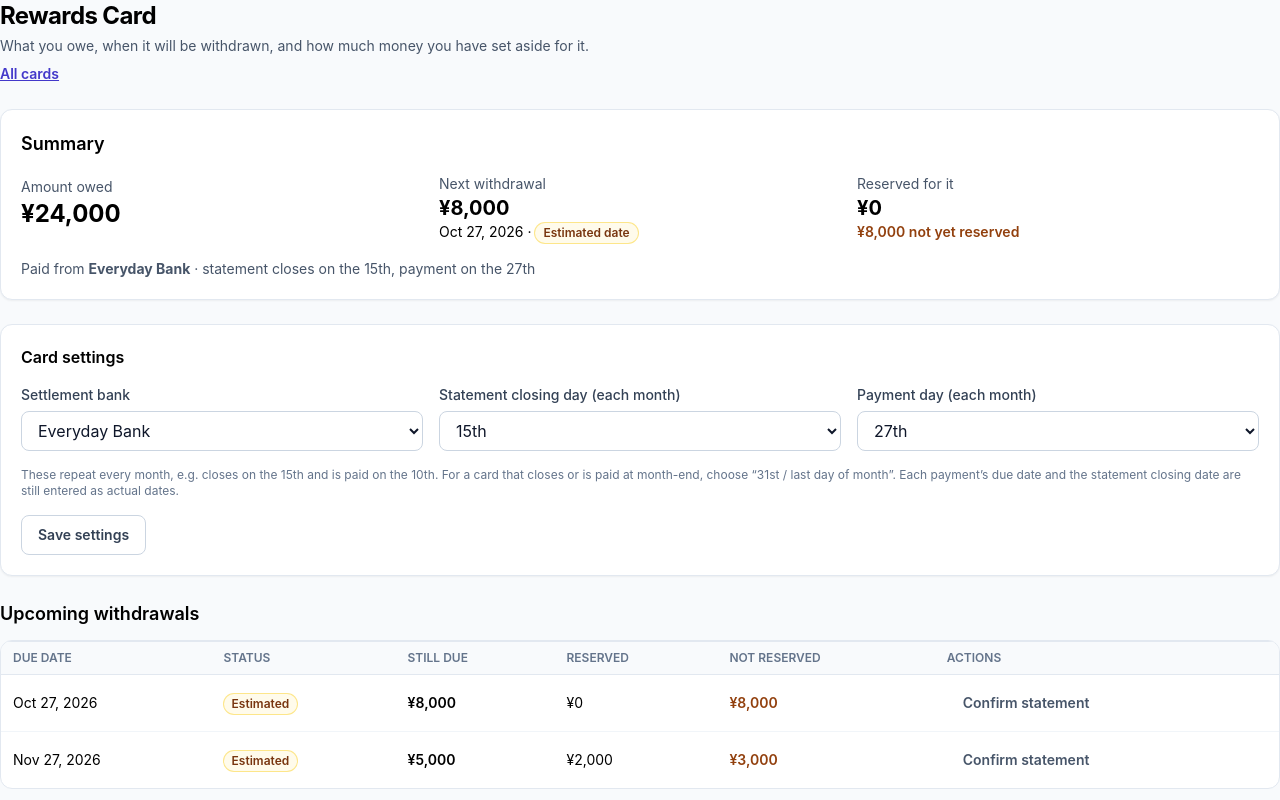
explains a statement total that does not match its payment dates
Click the button named "Confirm statement due 2026-10-27": (1026, 703) [947, 683, 1105, 723]
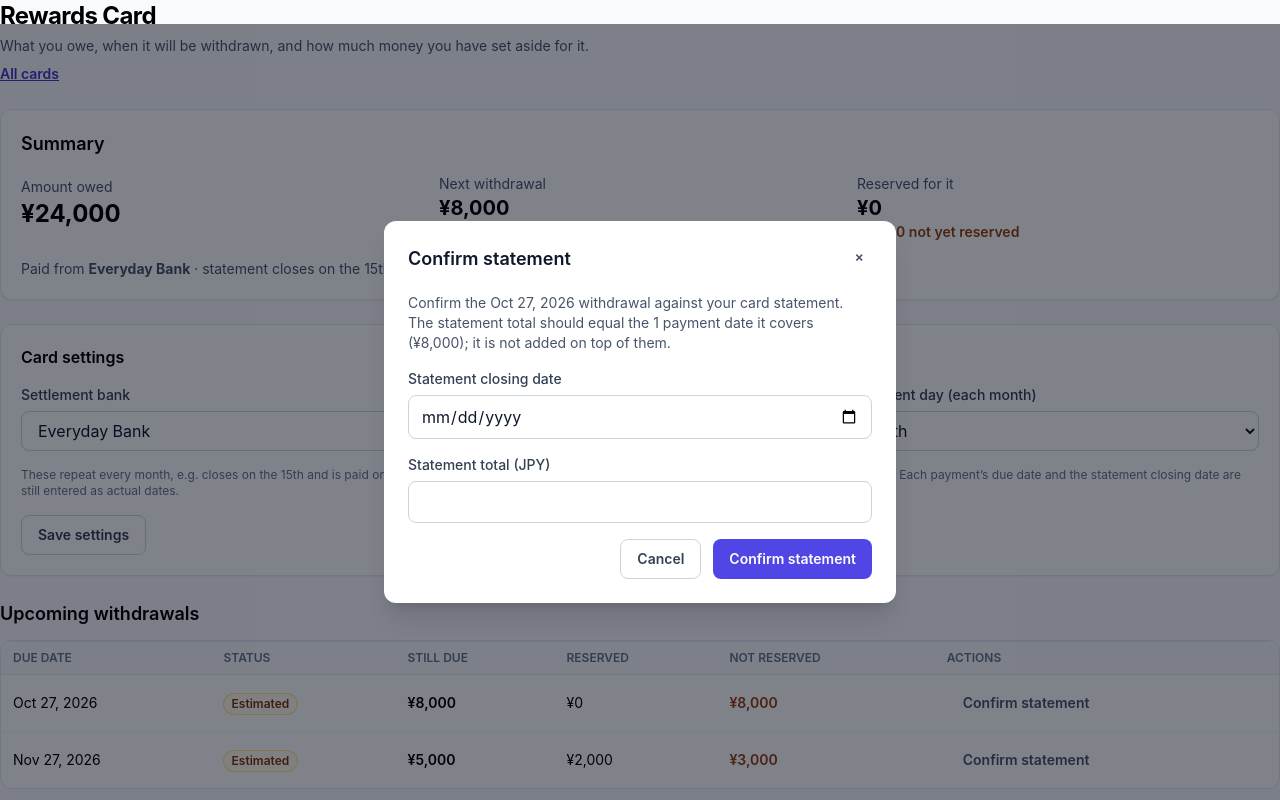
Expected: the text "it is not added on top of them" is shown, [459, 334, 671, 351]
In the date field labelled "Statement closing date": (640, 417) [408, 395, 872, 439], type "2026-10-15"
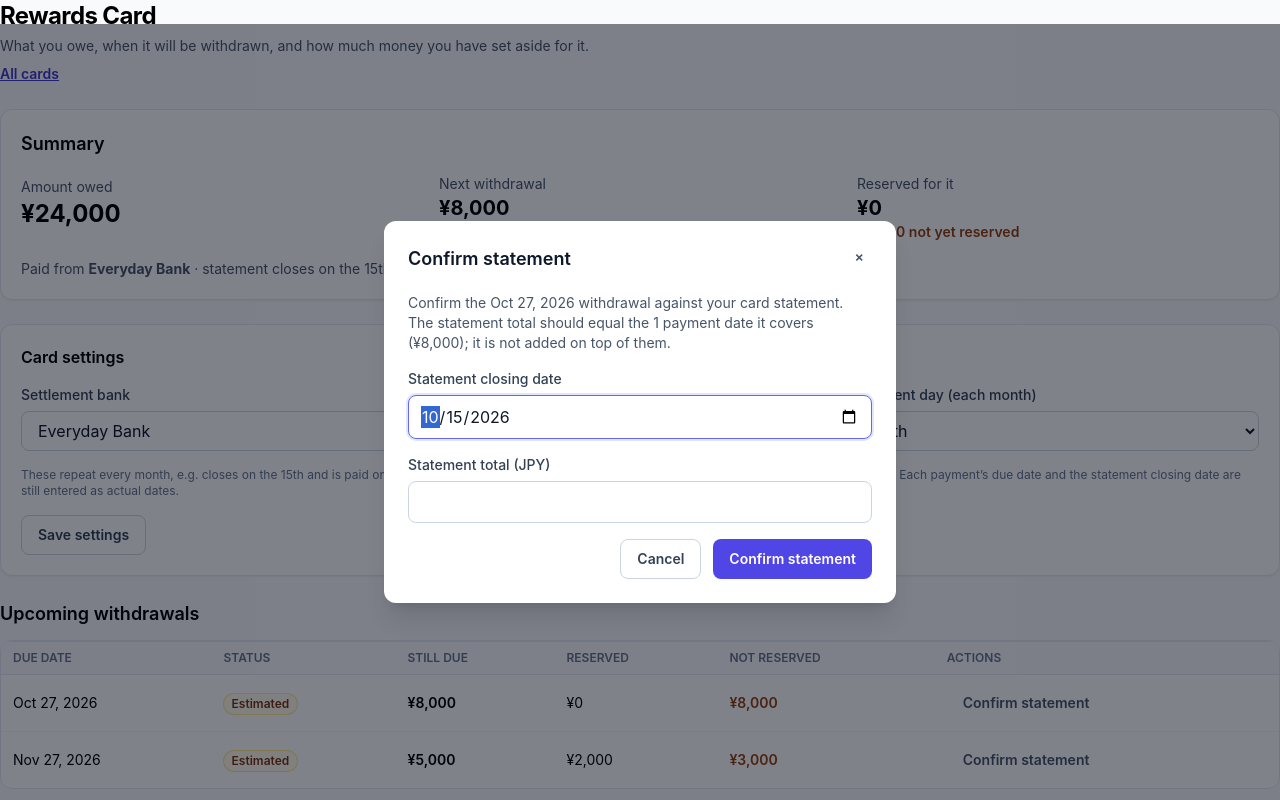
In the field labelled "Statement total (JPY)": (640, 502) [408, 481, 872, 523], type "8500"
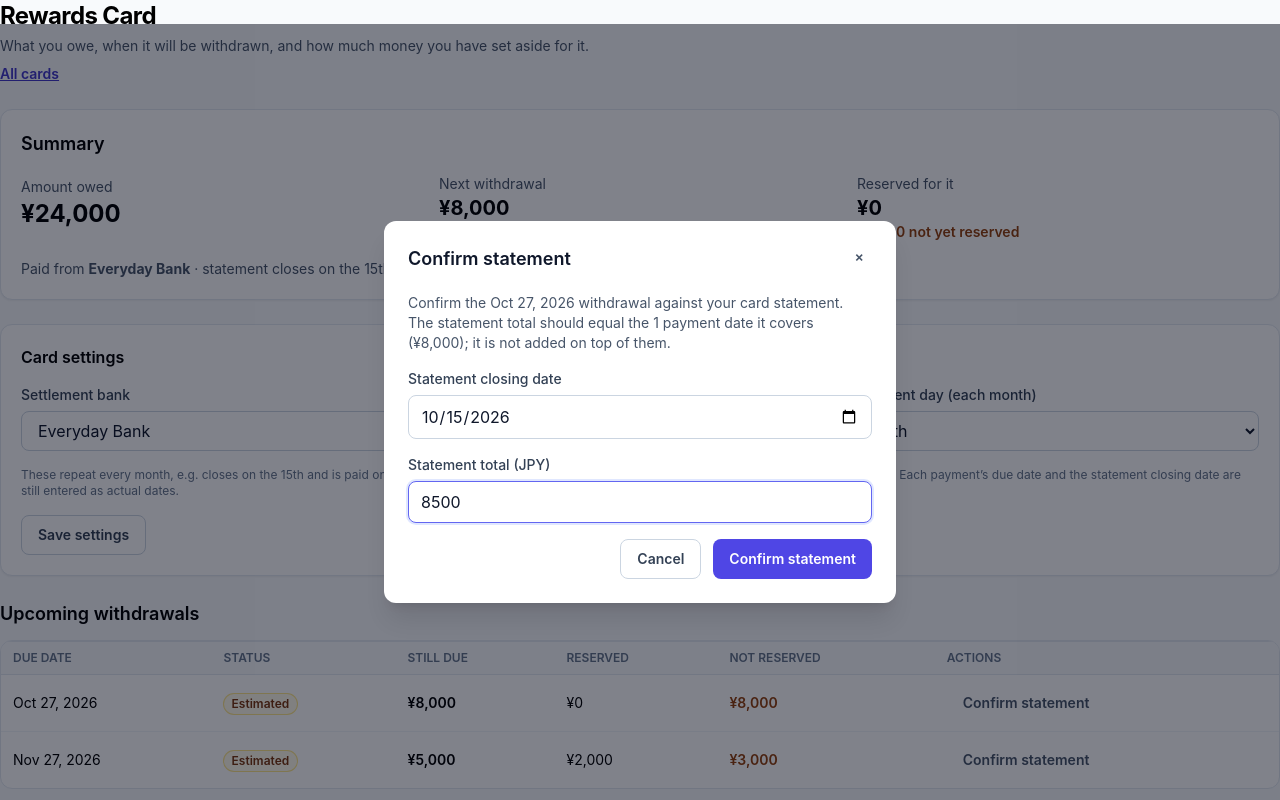
Click the button "Confirm statement": (793, 559) [713, 539, 872, 579]
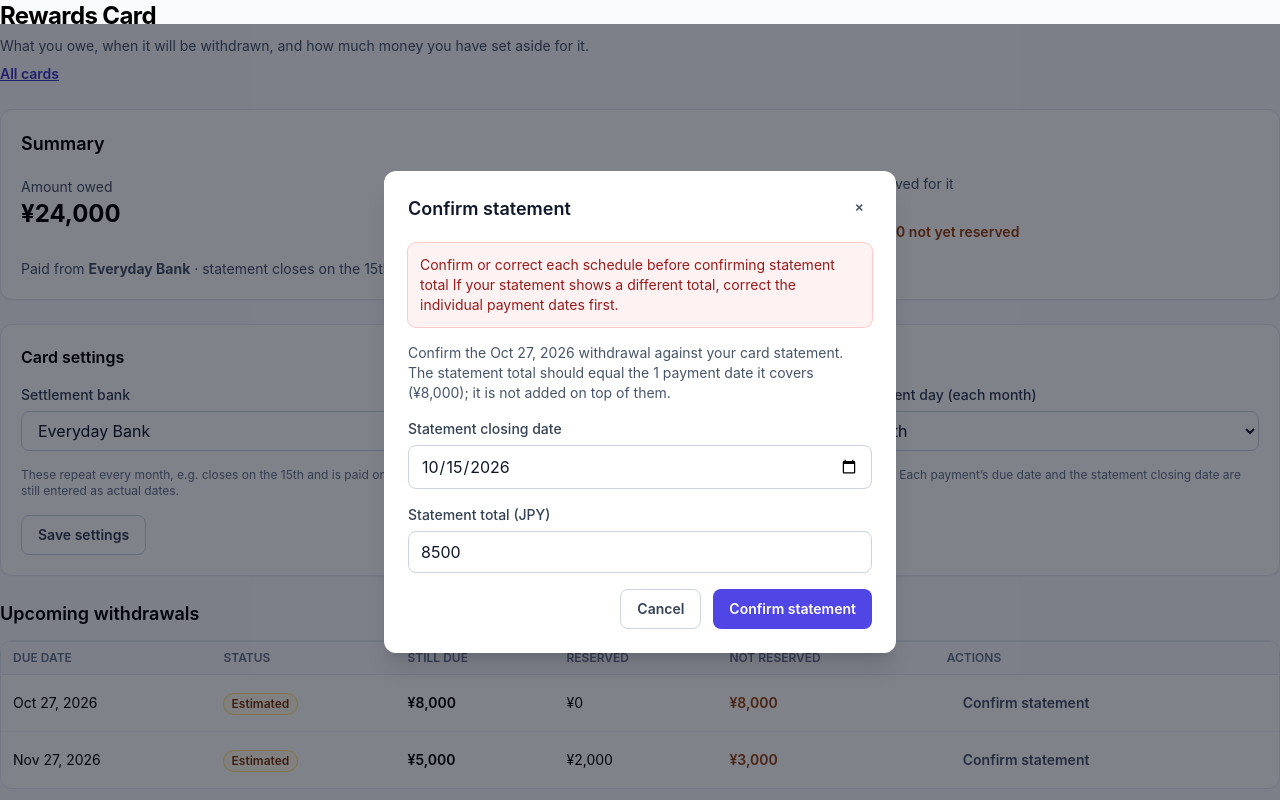
Expected: the message shows "correct the individual payment dates first", [420, 256, 835, 313]
